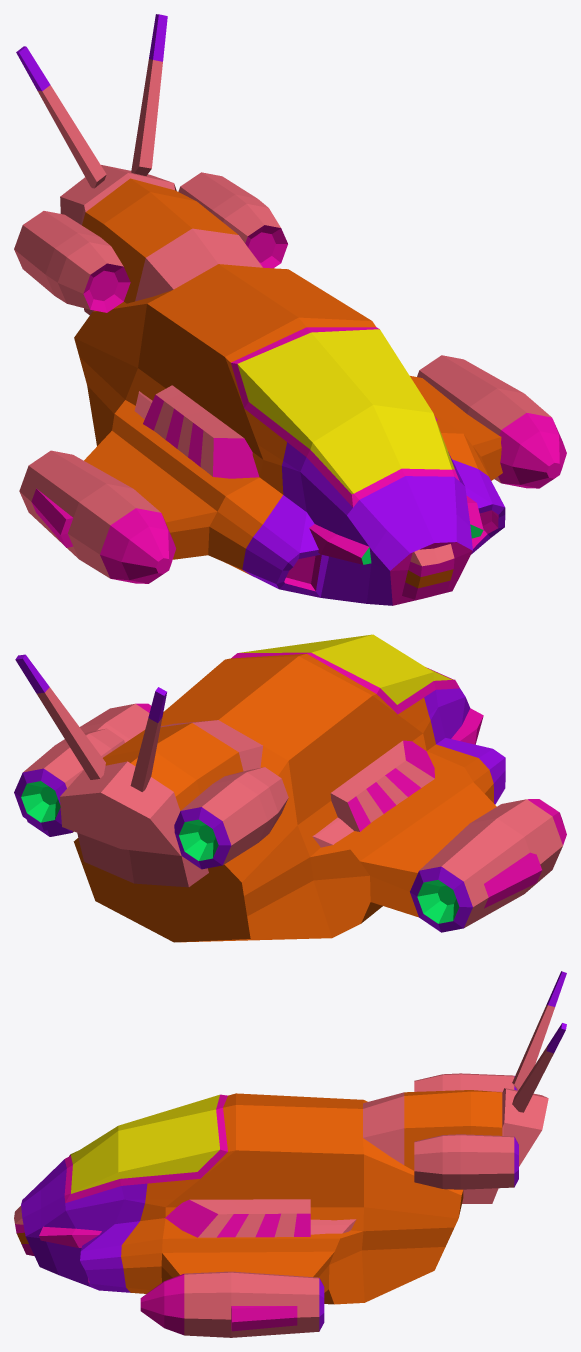
Rendered from decoration-spaceship.fbx.
The picture shows the model from 3 angles, top to bottom: view 1: azimuth 30°, elevation 25°; view 2: azimuth 150°, elevation 25°; view 3: azimuth 270°, elevation 25°; orthographic projection. The views are drawn at different scales.
Parts seen in each view (by area): view 1: decoration-spaceship; view 2: decoration-spaceship; view 3: decoration-spaceship.
Part boxes in pixels (x1,y1,x2,y2): decoration-spaceship: (14, 14, 566, 605); decoration-spaceship: (14, 634, 566, 942); decoration-spaceship: (14, 971, 566, 1337).
Size of the model in its own units: 7.03 by 4.66 by 8.83.
